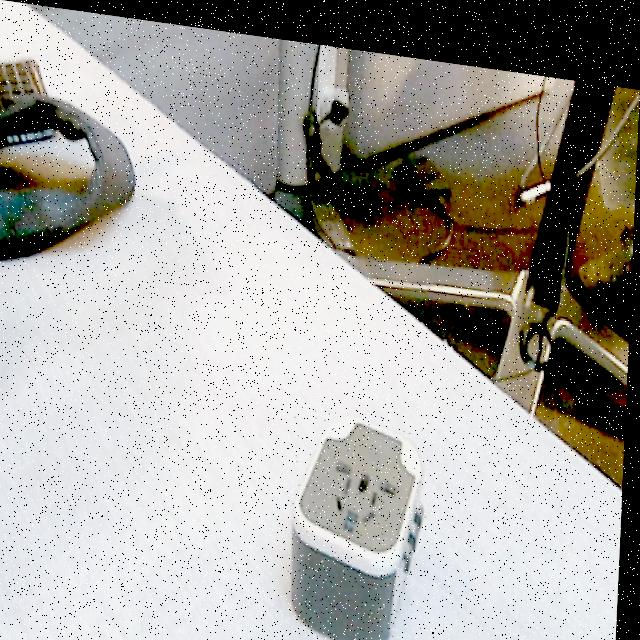adapter: (290, 396, 433, 640)
